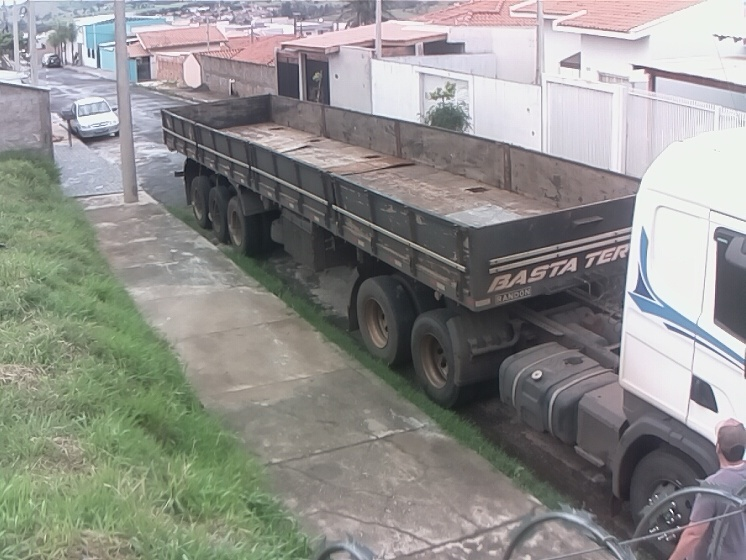person: (664, 416, 746, 560)
